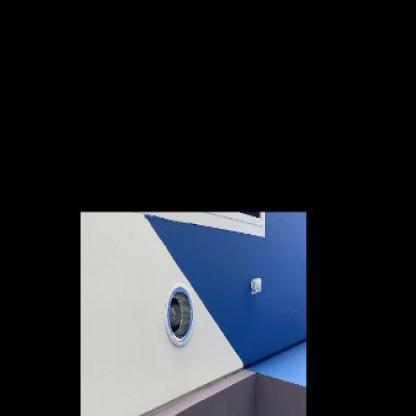light_off: (160, 270, 194, 352)
